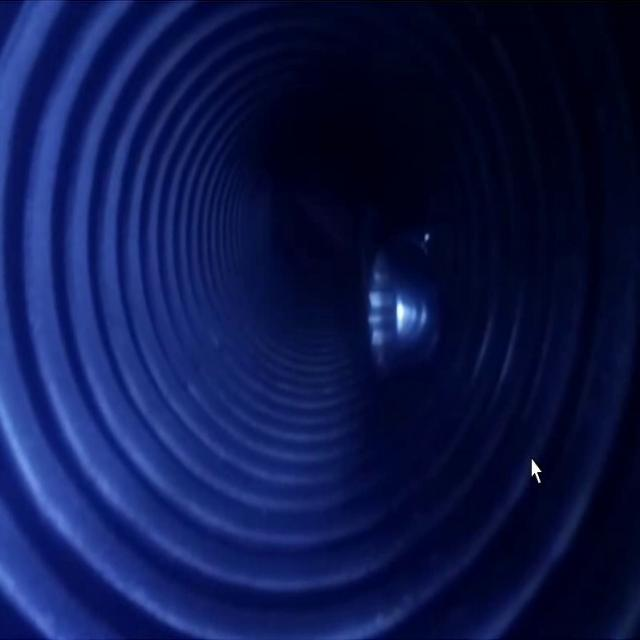metal piece: (367, 232, 445, 380)
